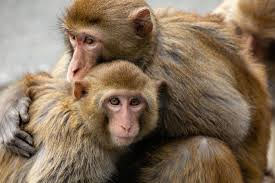monkey: (45, 3, 275, 179), (1, 69, 176, 174)
